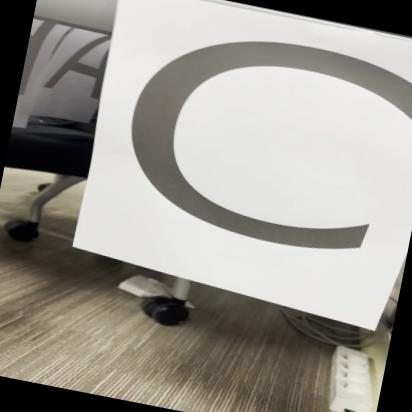seat: (61, 0, 412, 334)
